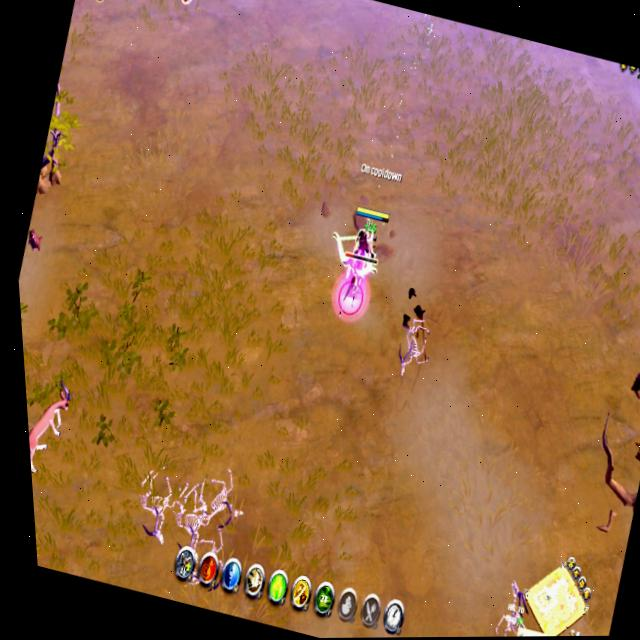ore: (25, 372, 84, 484), (324, 243, 383, 321)
red: (337, 199, 395, 274)
